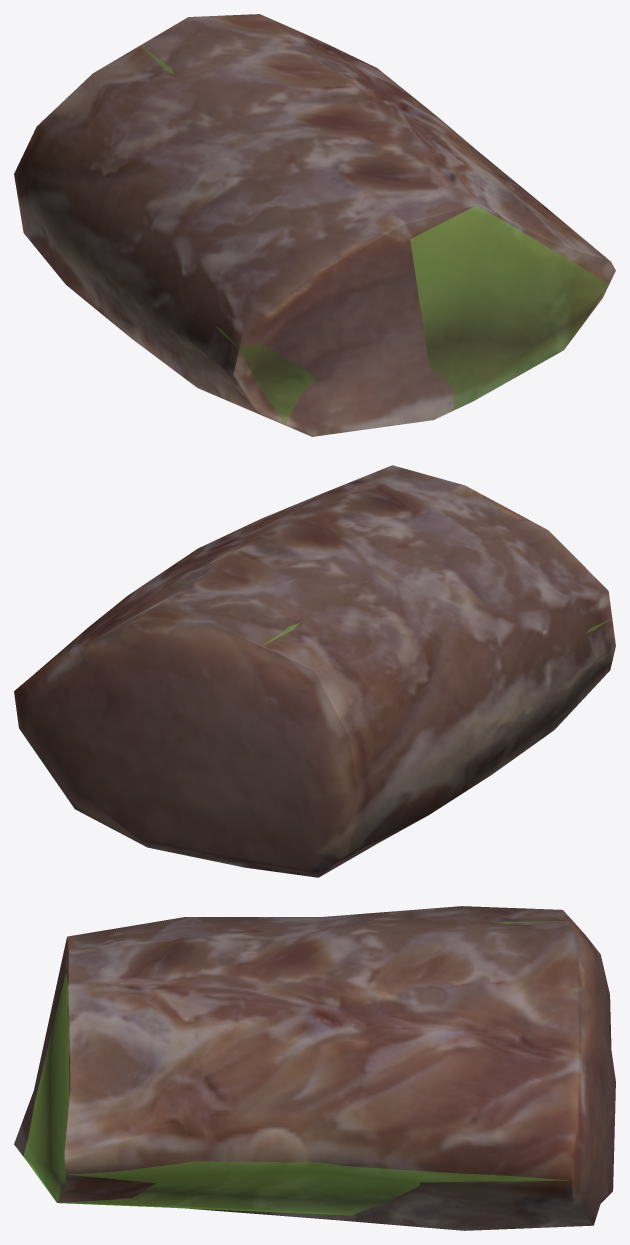
File: pg_Pork_02.fbx
3 renders of one model, top to bottom at view 1: azimuth 30°, elevation 25°; view 2: azimuth 150°, elevation 25°; view 3: azimuth 270°, elevation 25°, orthographic. The views are drawn at different scales.
Visible parts, largest first — view 1: pg_Pork_02_a_LOD0, pg_Pork_02_a_col; view 2: pg_Pork_02_a_LOD0; view 3: pg_Pork_02_a_LOD0, pg_Pork_02_a_col.
Boxes of the visible parts, bbox=[...] form: pg_Pork_02_a_LOD0: bbox=[14, 14, 615, 436]; pg_Pork_02_a_col: bbox=[142, 46, 608, 424]; pg_Pork_02_a_LOD0: bbox=[14, 465, 615, 877]; pg_Pork_02_a_LOD0: bbox=[14, 906, 615, 1230]; pg_Pork_02_a_col: bbox=[23, 921, 568, 1215].
Size of what is drawn, in the model's own units: 12.9 by 7.66 by 16.18.
Materials: 2 (1 with a texture image).
